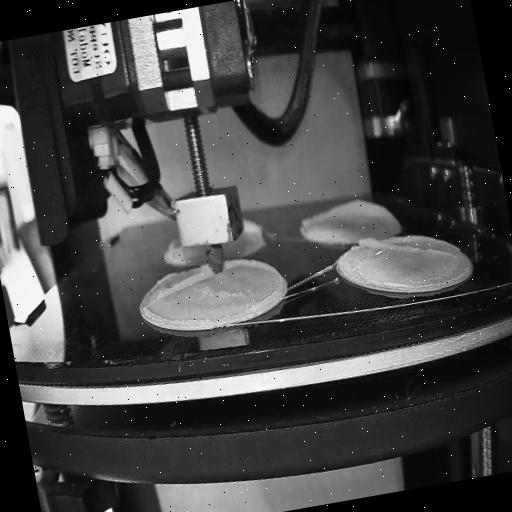over_extrusion: (296, 191, 398, 244), (360, 224, 454, 272), (149, 266, 216, 302), (223, 248, 279, 282), (247, 283, 281, 310), (242, 214, 268, 243)
